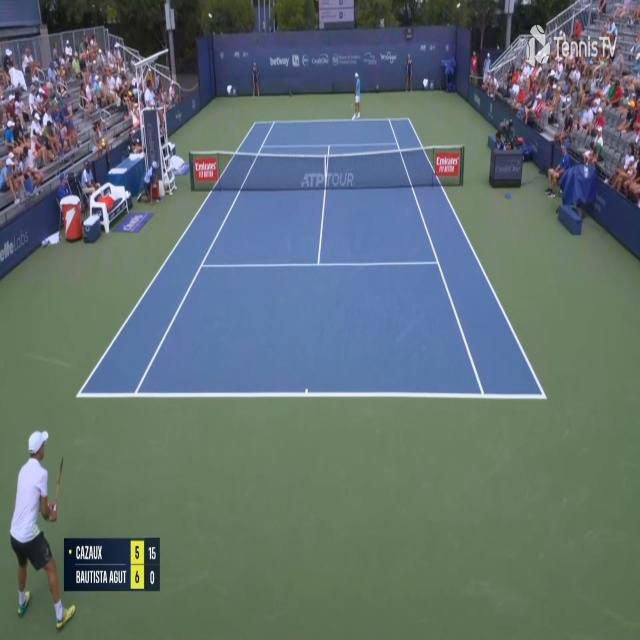tennis-player: (6, 423, 73, 632), (351, 70, 362, 123)
